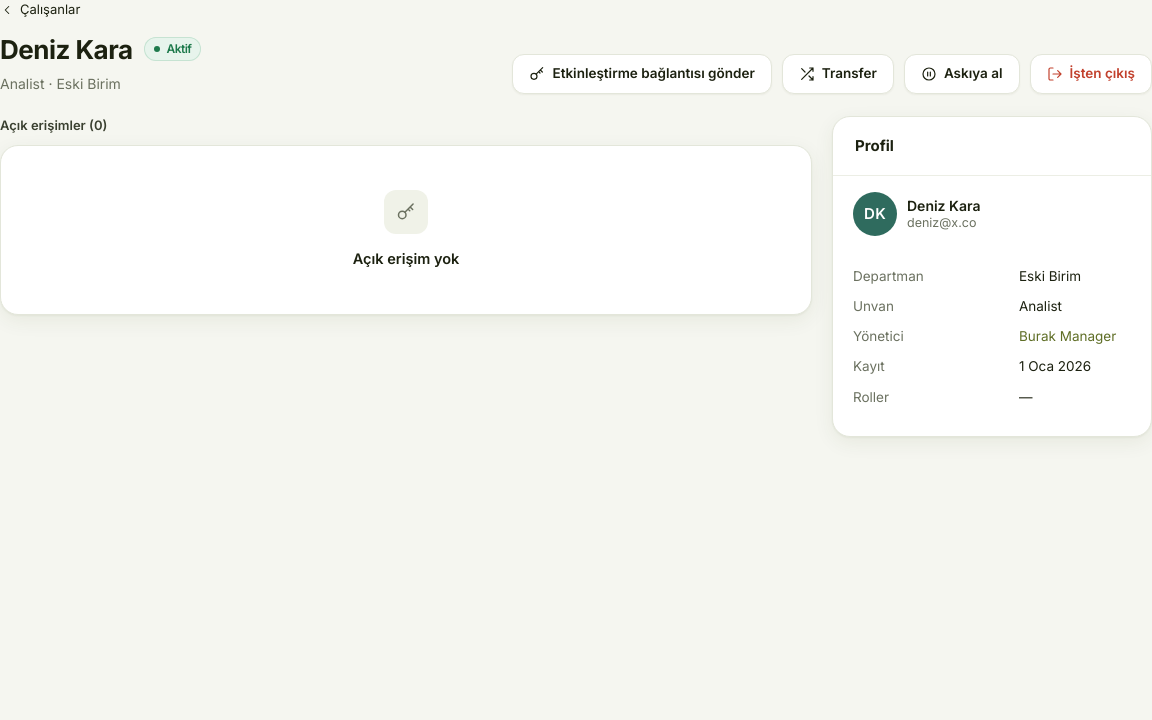
Test: employee detail › keeps a retired current value selectable when transferring
Click the button "Transfer": (838, 74) [782,54,894,94]
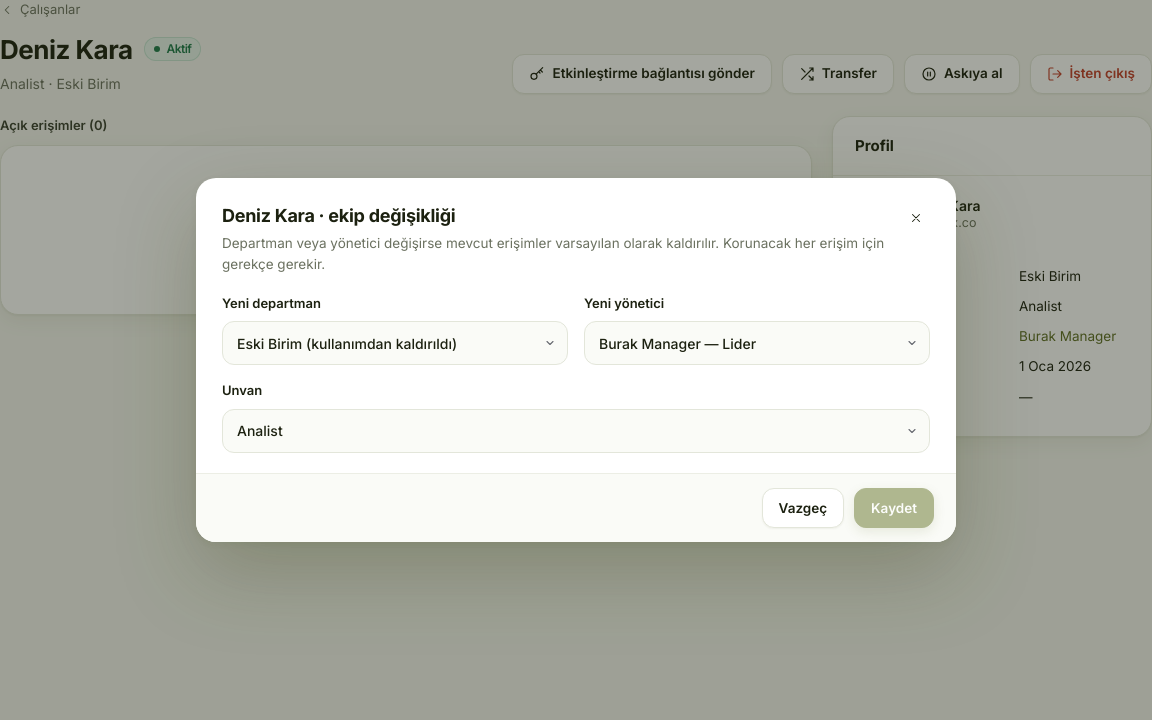
Check: the dropdown labelled "Yeni departman" shows "Eski Birim (kullanımdan kaldırıldı)", box [222,321,568,365]
